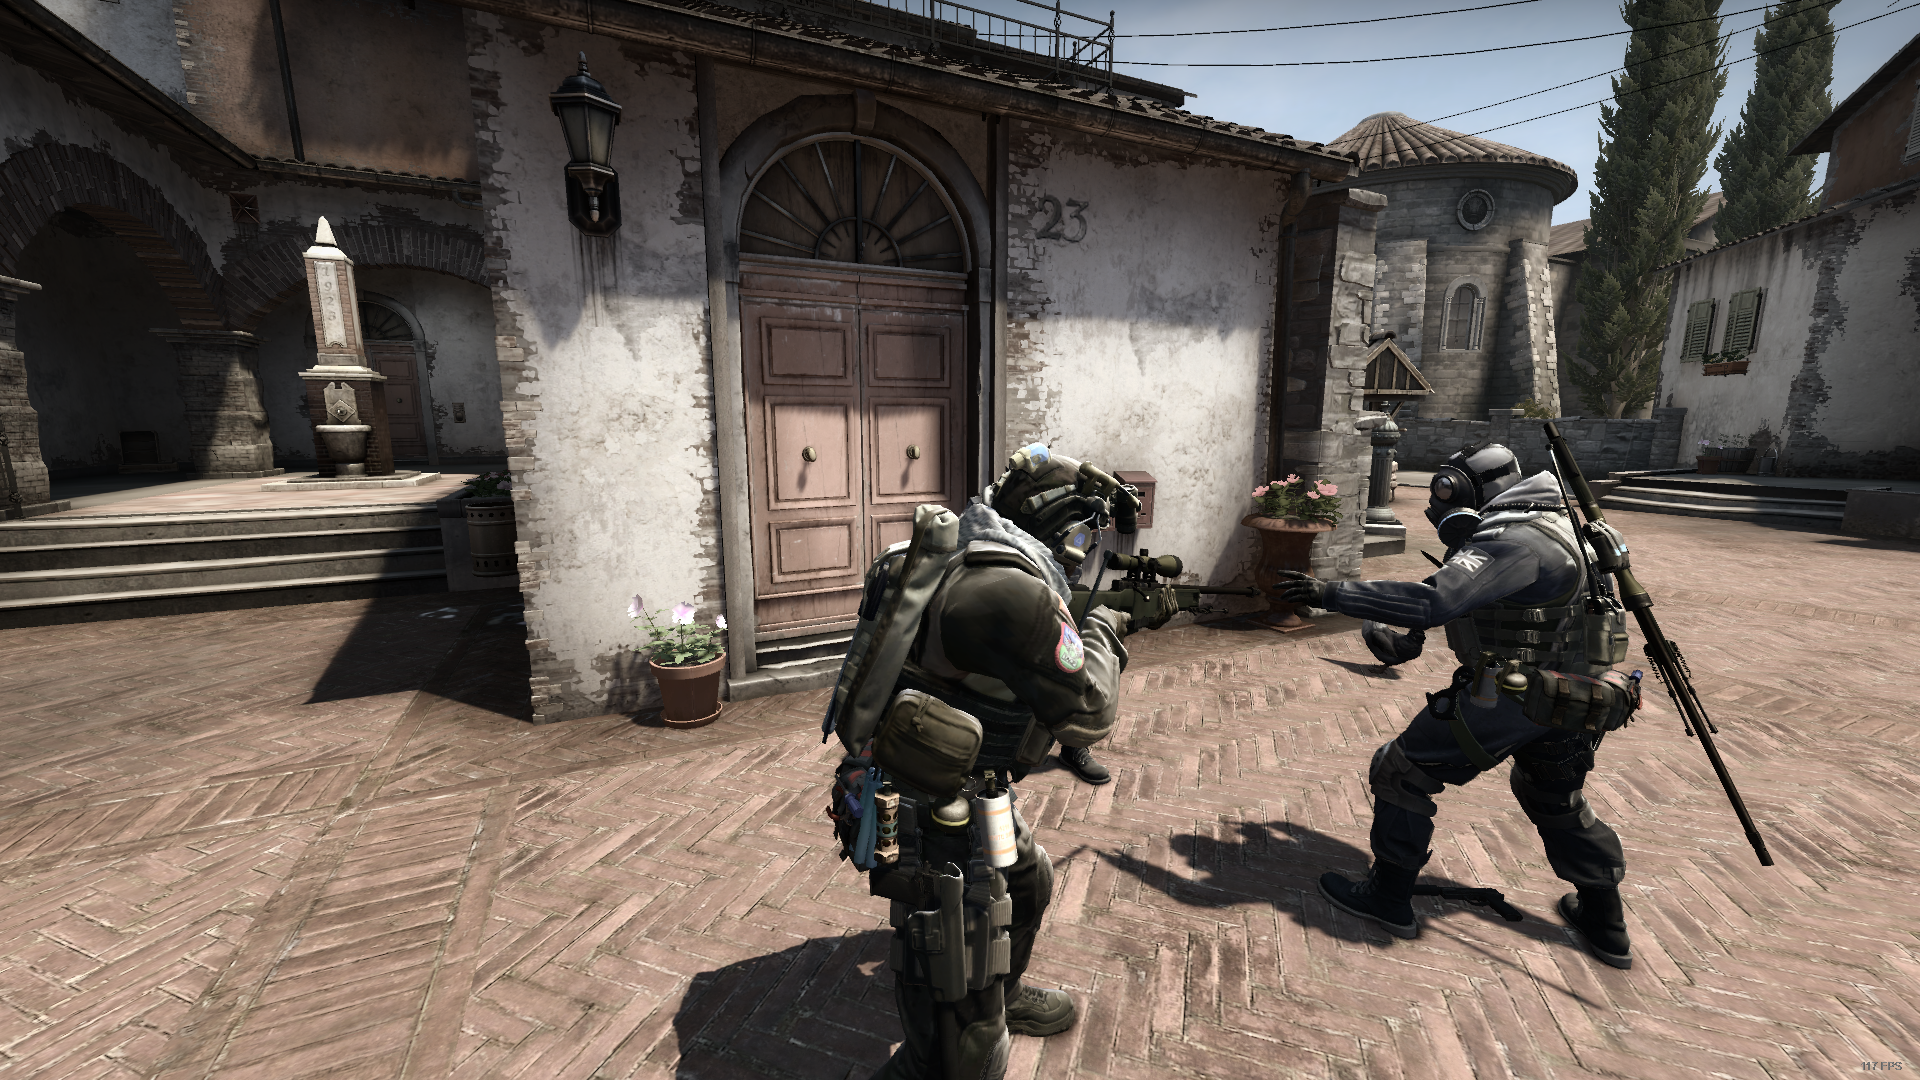ct: (1278, 442, 1640, 968)
